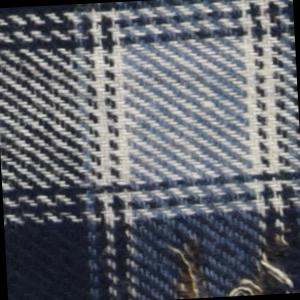Damage: (226, 228, 298, 297)
Oil Stain: (238, 211, 300, 296), (166, 230, 217, 300)
